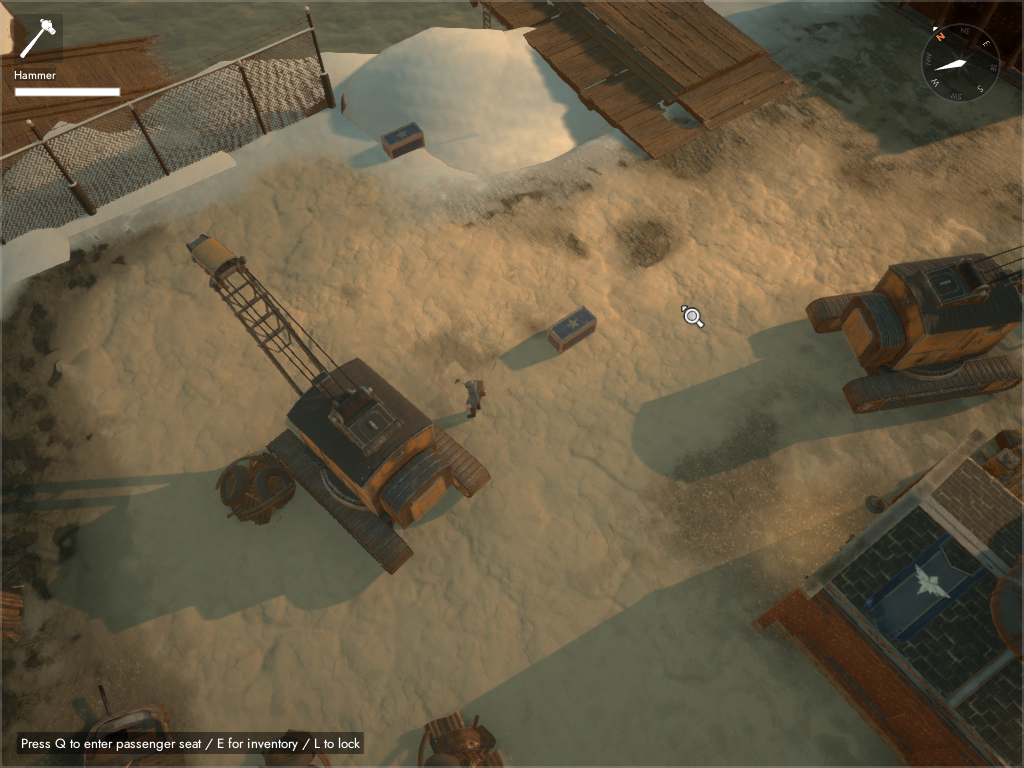crane: (186, 233, 492, 577), (805, 243, 1023, 416)
player: (454, 377, 487, 419)
scrap: (75, 681, 187, 768), (215, 451, 297, 526), (417, 710, 506, 768), (255, 727, 333, 768), (1, 586, 26, 644)
storage_box: (545, 303, 599, 355), (378, 119, 427, 160)
vehicle_operator_toggle: (18, 733, 364, 754)
